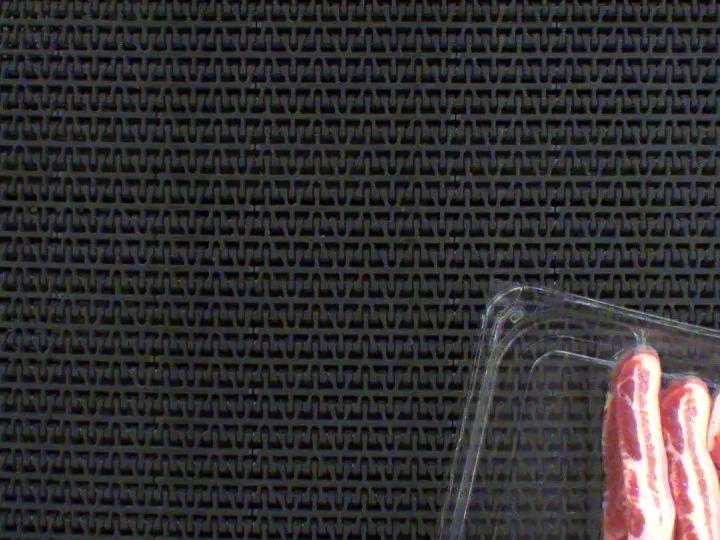packaging-error: (619, 313, 661, 352)
unsealed: (659, 363, 720, 397)
